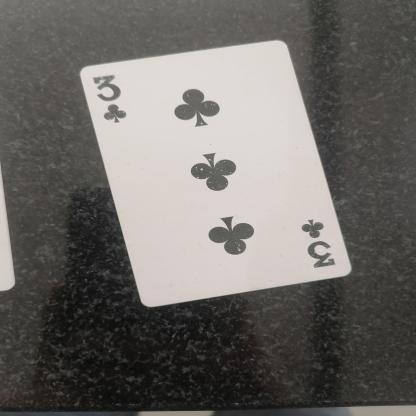3C: (84, 66, 135, 127), (290, 214, 343, 271)
